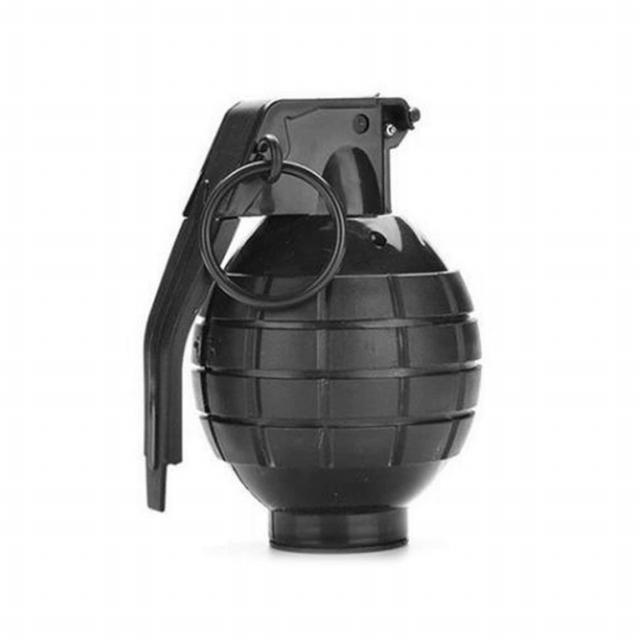grenade: (115, 95, 483, 561)
